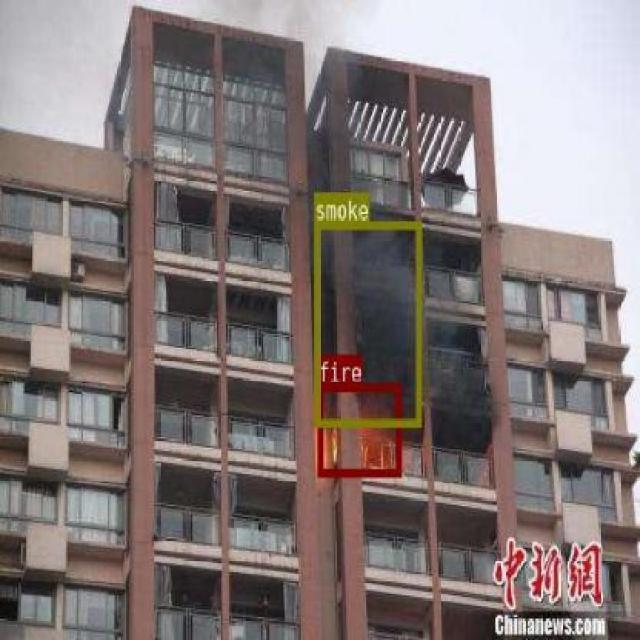Fire: (310, 388, 413, 474)
Smoke: (312, 202, 466, 435)
